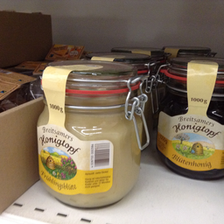honey: (20, 58, 157, 210), (155, 55, 224, 181)
